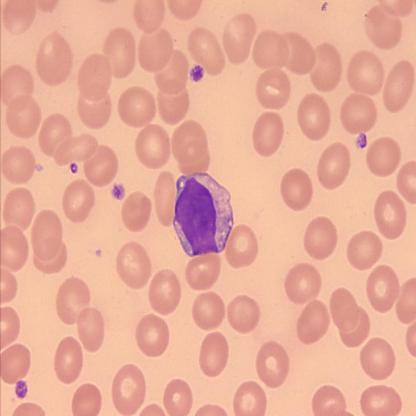Atypical lymphocyte: (170, 165, 235, 258)
